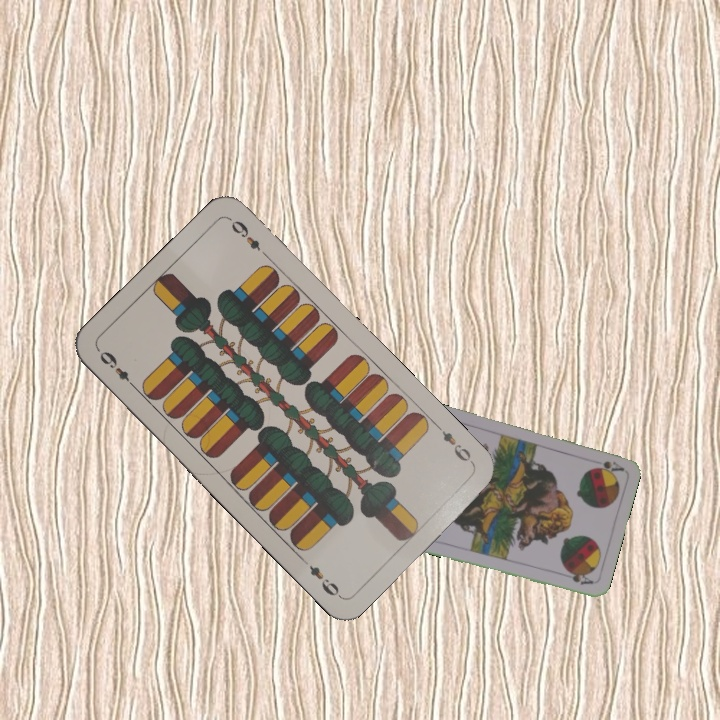E9: (432, 420, 477, 468), (95, 346, 140, 392)
SA: (591, 457, 626, 475)
